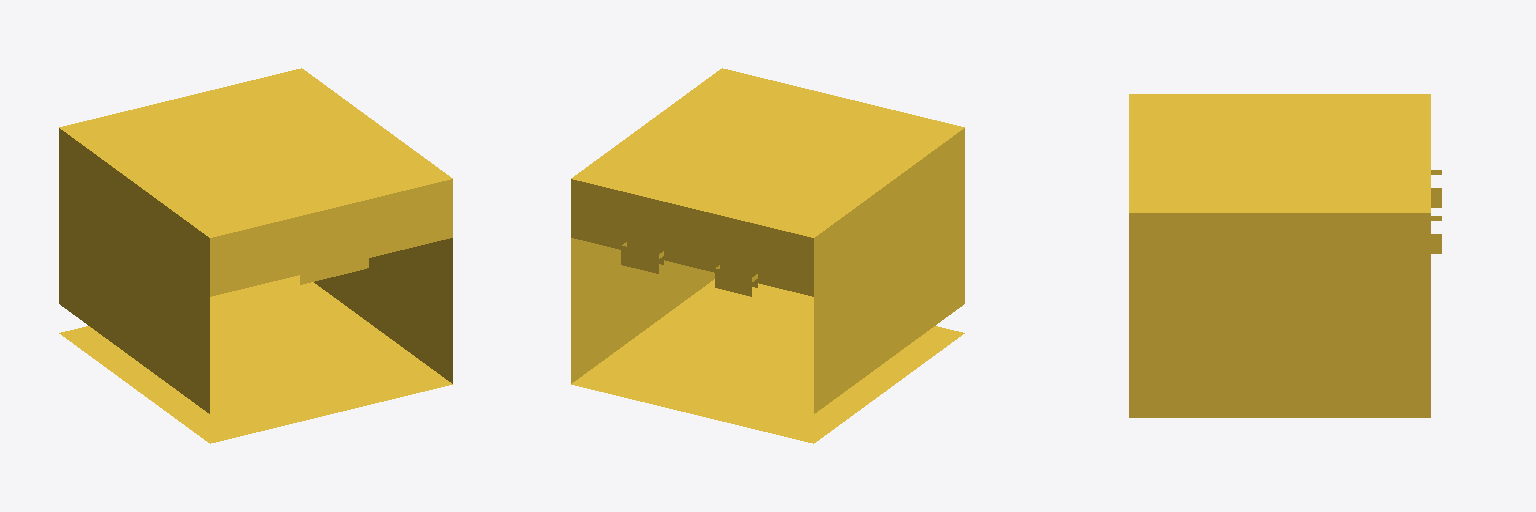
3 views of the same model, side by side, from view 1: azimuth 30°, elevation 25°; view 2: azimuth 150°, elevation 25°; view 3: azimuth 270°, elevation 25° (orthographic).
Visible parts, largest first — view 1: cuboid, Cofre, Cerradura; view 2: cuboid, Cofre, Bisagra; view 3: cuboid, Cofre, Bisagra.
Boxes of the visible parts, x1,y1,x2,y2 form: cuboid: [59, 68, 452, 296]; Cofre: [59, 187, 452, 443]; Cerradura: [300, 249, 368, 284]; cuboid: [571, 68, 964, 296]; Cofre: [571, 187, 964, 443]; Bisagra: [621, 242, 757, 296]; cuboid: [1129, 94, 1430, 270]; Cofre: [1129, 271, 1430, 417]; Bisagra: [1431, 170, 1441, 253].
Size of the model in its own units: 1.62 by 1.31 by 1.88.
5 materials, 1 textured.